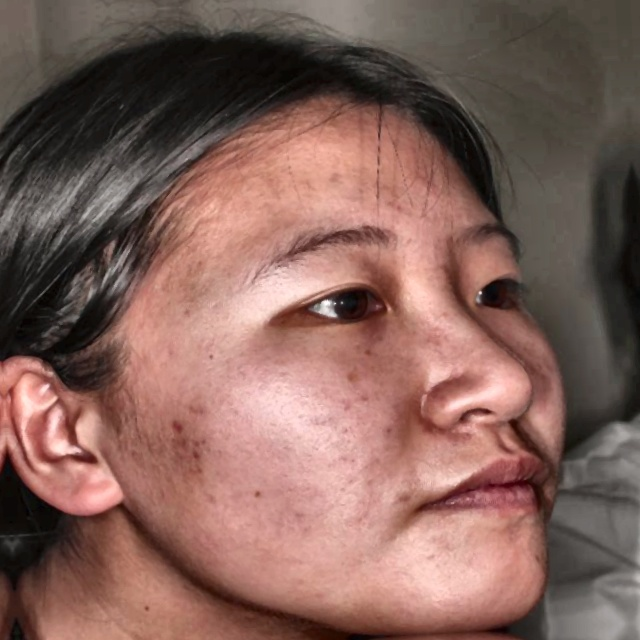comedone: (163, 409, 206, 447)
